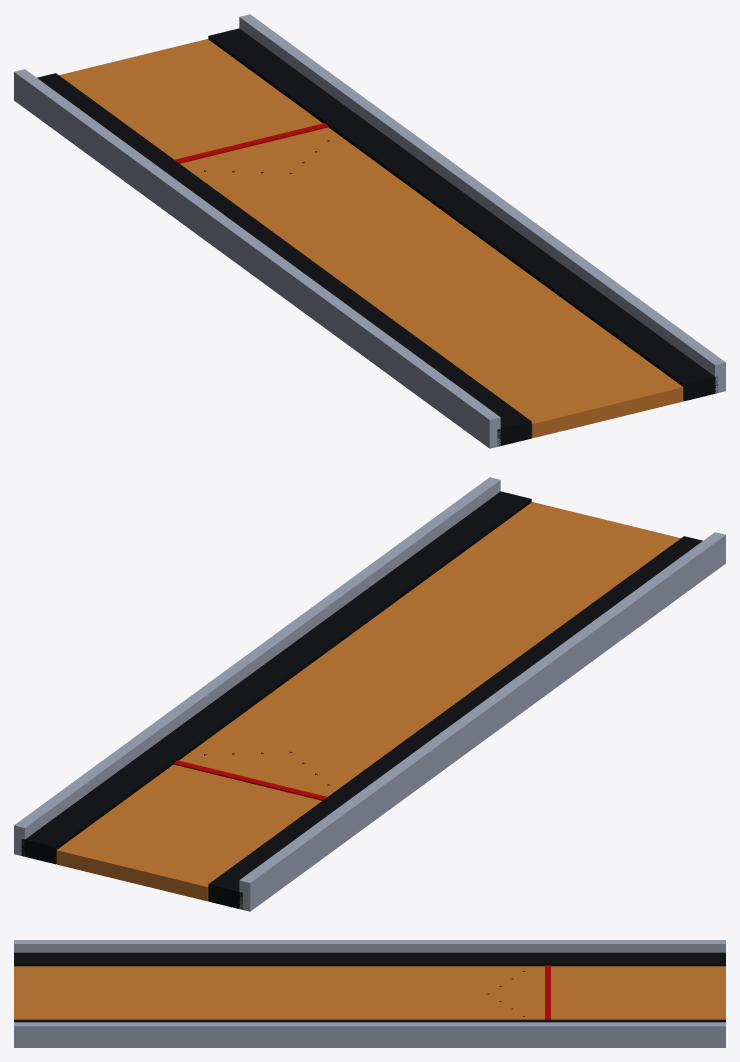
Rendered from bowling_lane.obj.
3 views of the same model, one above another, from view 1: azimuth 30°, elevation 25°; view 2: azimuth 150°, elevation 25°; view 3: azimuth 270°, elevation 25° (orthographic). The views are drawn at different scales.
Parts seen in each view (by area): view 1: bowling_lane; view 2: bowling_lane; view 3: bowling_lane.
Boxes of the visible parts, x1=… form: bowling_lane: x1=14, y1=14, x2=725, y2=448; bowling_lane: x1=14, y1=477, x2=725, y2=911; bowling_lane: x1=14, y1=940, x2=725, y2=1047.
Bounding box in the file's own units: 1.72 × 0.2 × 6.
